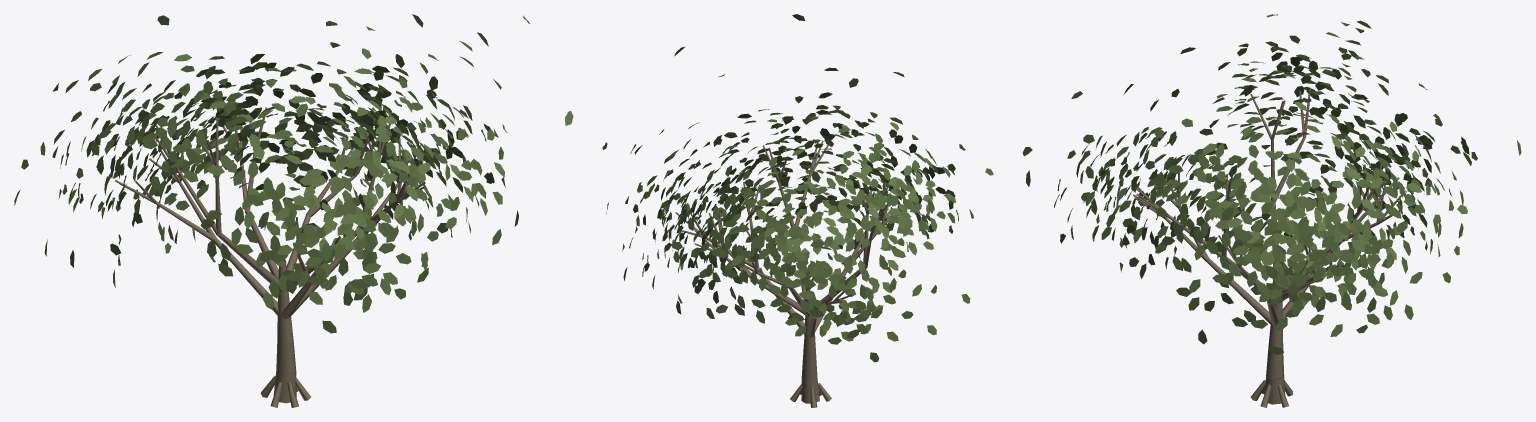
3 views of the same model, side by side, from view 1: azimuth 30°, elevation 25°; view 2: azimuth 150°, elevation 25°; view 3: azimuth 270°, elevation 25° (orthographic). The views are drawn at different scales.
Visible parts, largest first — view 1: plane_0_LOD0; view 2: plane_0_LOD0; view 3: plane_0_LOD0.
Boxes of the visible parts, x1,y1,x2,y2 form: plane_0_LOD0: (14, 14, 573, 407); plane_0_LOD0: (602, 14, 993, 407); plane_0_LOD0: (1022, 14, 1521, 407).
Size of what is drawn, in the model's own units: 3.37 by 2.75 by 3.64.
